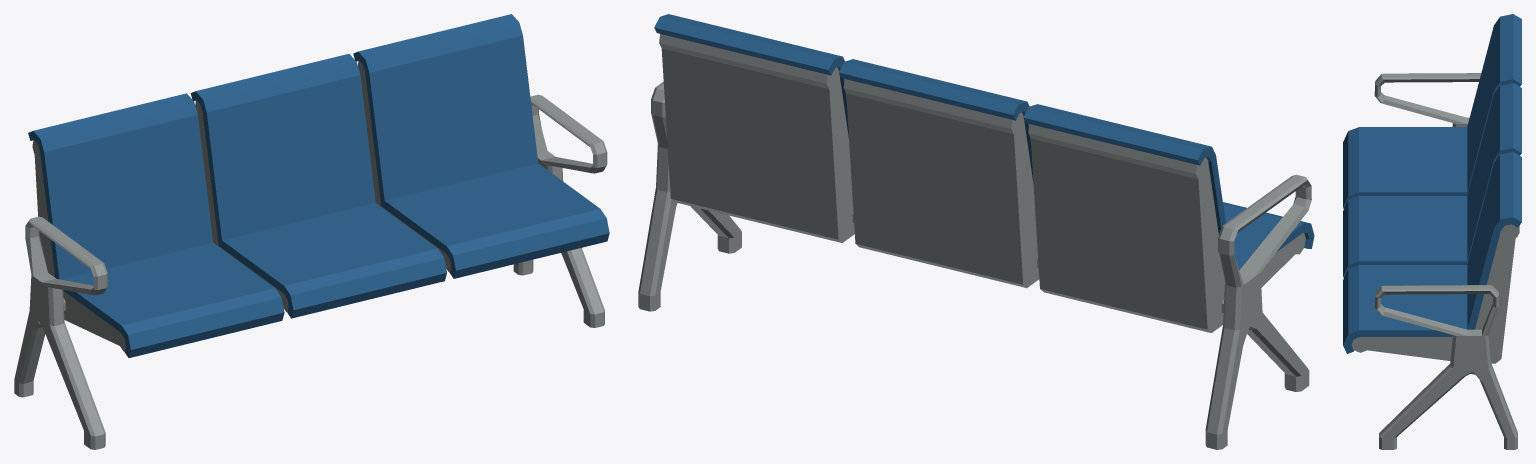
The model's file is SM_Props_Interior_Generic_Reception_Chair_02.fbx.
3 renders of one model, left to right at view 1: azimuth 30°, elevation 25°; view 2: azimuth 150°, elevation 25°; view 3: azimuth 270°, elevation 25°, orthographic. The views are drawn at different scales.
Visible parts, largest first — view 1: SM_Props_Interior_Generic_Reception_Chair_02; view 2: SM_Props_Interior_Generic_Reception_Chair_02; view 3: SM_Props_Interior_Generic_Reception_Chair_02.
Part boxes in pixels (x1=…): SM_Props_Interior_Generic_Reception_Chair_02: x1=14, y1=14, x2=609, y2=449; SM_Props_Interior_Generic_Reception_Chair_02: x1=638, y1=14, x2=1314, y2=449; SM_Props_Interior_Generic_Reception_Chair_02: x1=1343, y1=14, x2=1521, y2=449.
Bounding box in the file's own units: 174 × 83.76 × 60.28.
